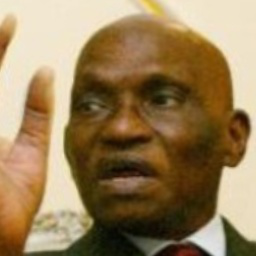Person: (63, 7, 256, 246)
